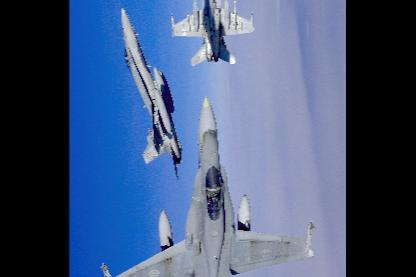F15: (100, 95, 316, 275), (121, 6, 182, 178), (170, 0, 255, 66)
